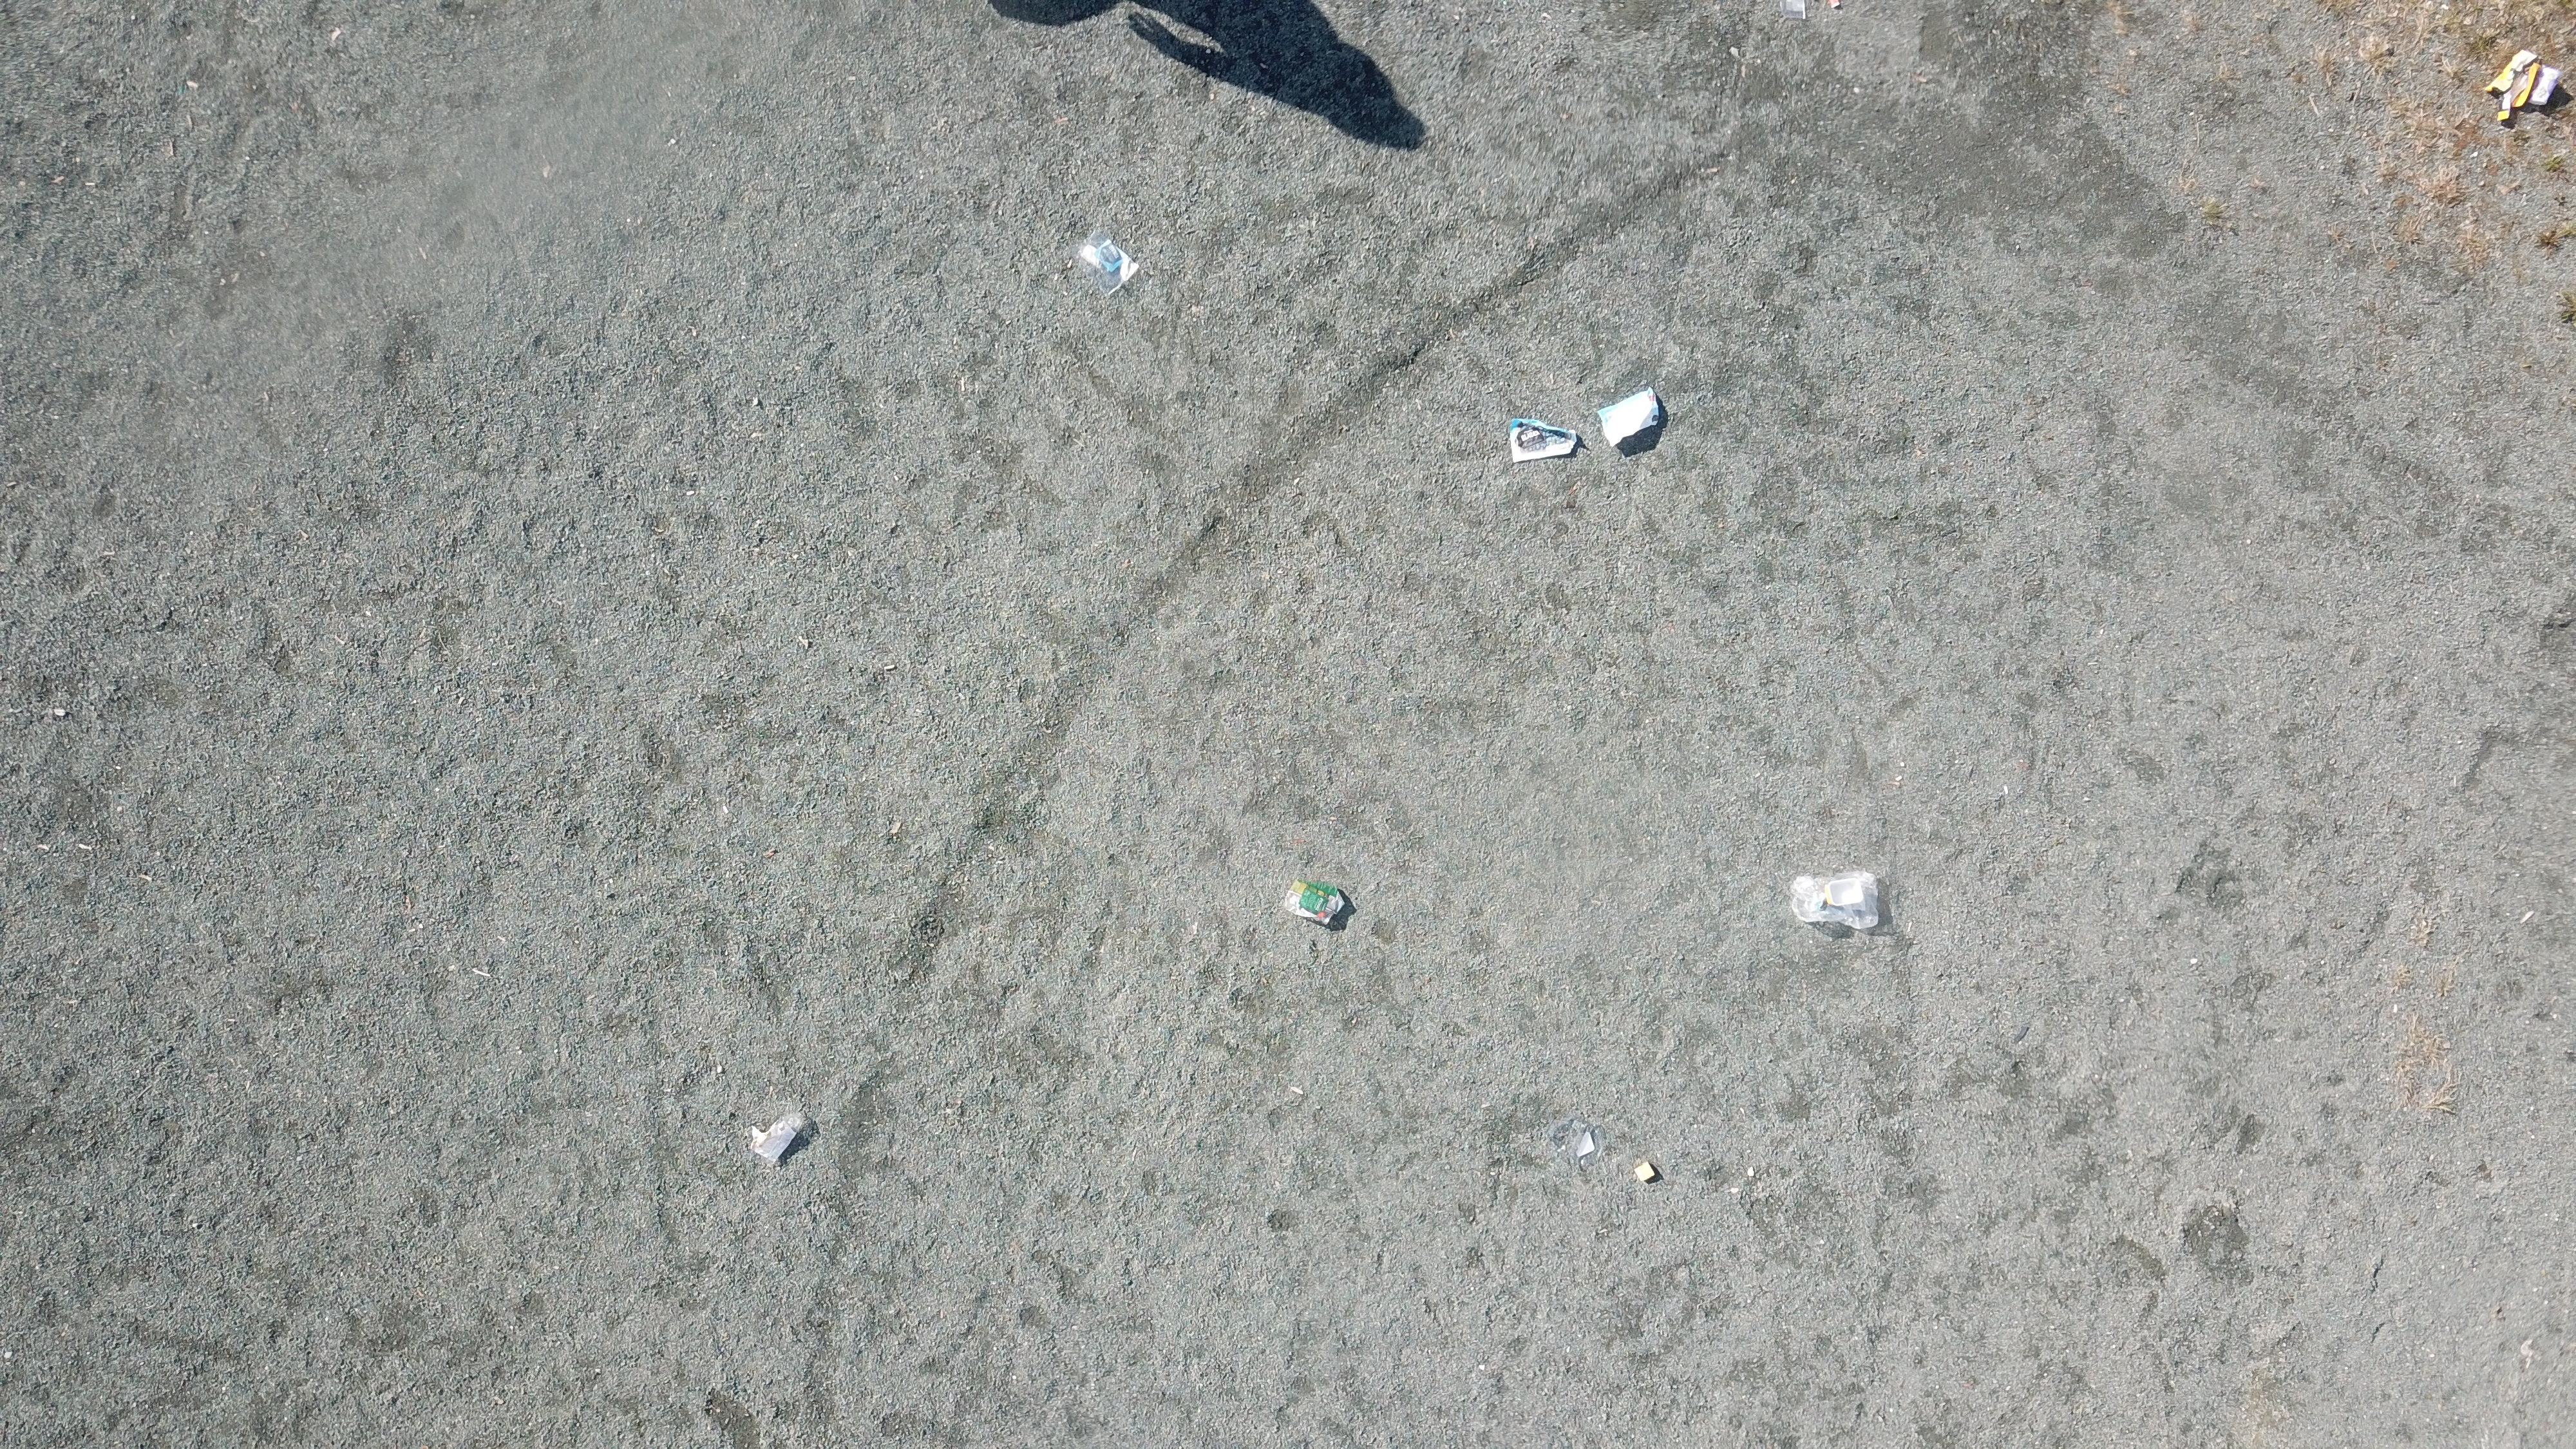Plastic: (1792, 869, 1882, 929), (1076, 230, 1138, 295), (1598, 387, 1660, 448), (2486, 51, 2539, 120), (741, 1109, 809, 1159), (1509, 419, 1582, 464), (1286, 881, 1345, 927), (1550, 1120, 1606, 1166), (2532, 64, 2564, 106), (1780, 0, 1806, 19), (1635, 1162, 1656, 1180), (1828, 0, 1842, 9)
